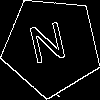N: (26, 21, 71, 74)
